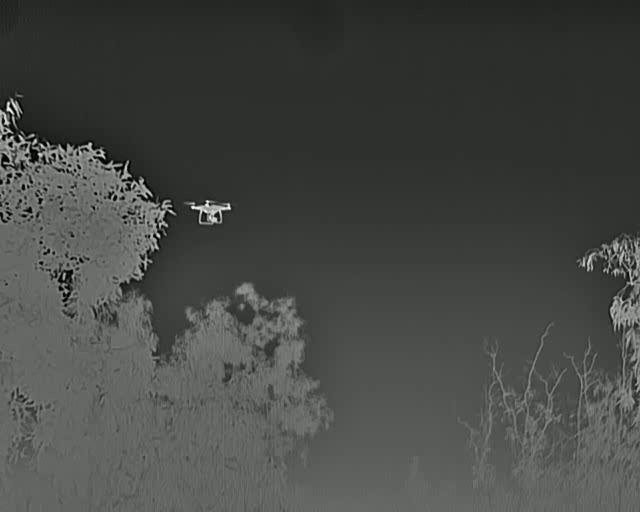DJI-Phantom: (182, 197, 238, 233)
